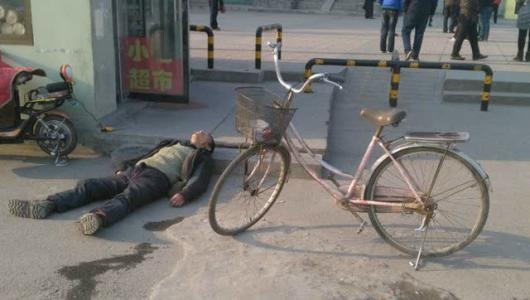falling: (0, 122, 219, 237)
